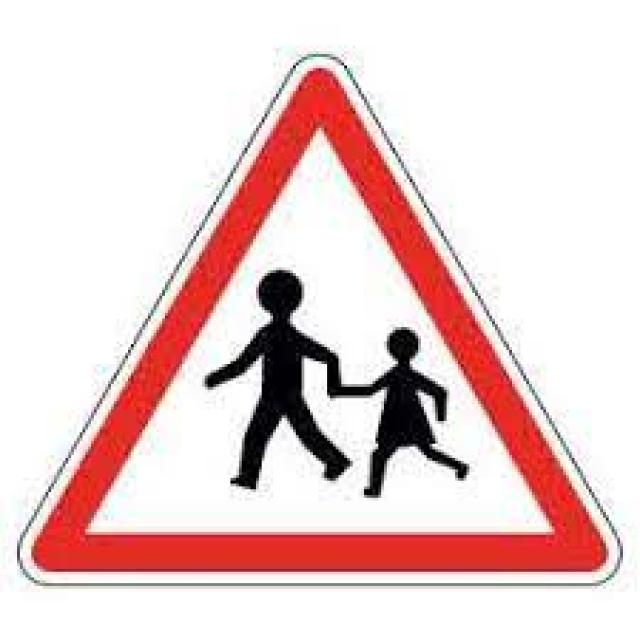AttentionEnfant: (16, 54, 622, 572)
